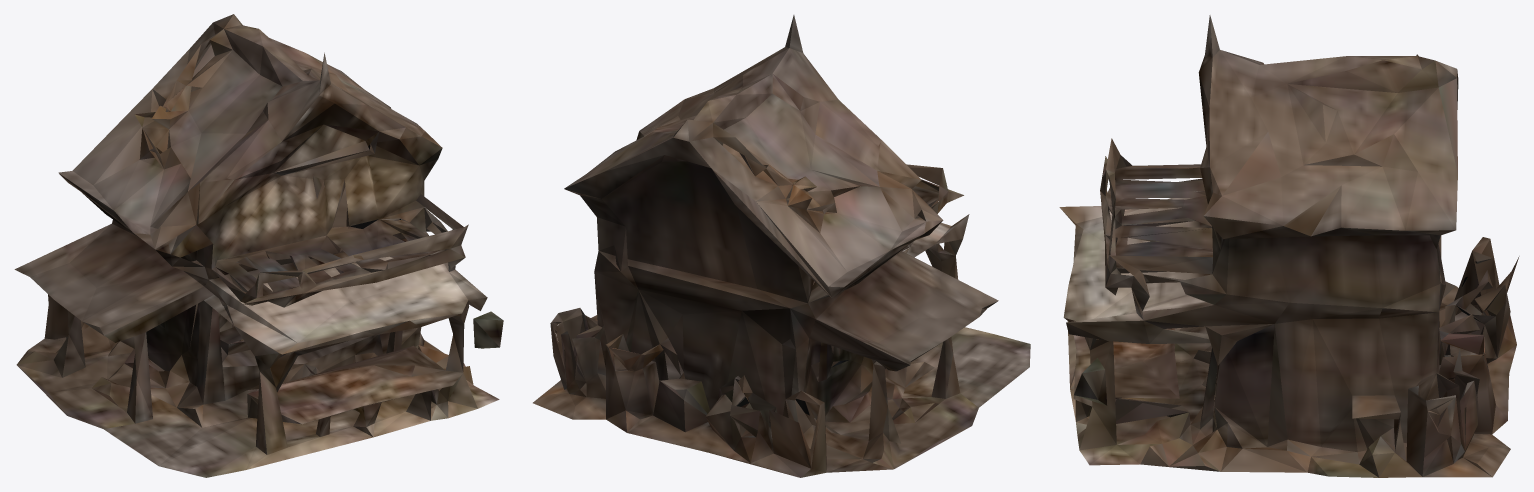
File: hut_mossy_ruined_b_lod1.glb
3 views of the same model, side by side, from view 1: azimuth 30°, elevation 25°; view 2: azimuth 150°, elevation 25°; view 3: azimuth 270°, elevation 25° (orthographic). The views are drawn at different scales.
Visible parts, largest first — view 1: hut_mossy_ruined_b_lod1; view 2: hut_mossy_ruined_b_lod1; view 3: hut_mossy_ruined_b_lod1.
Boxes of the visible parts, x1,y1,x2,y2 form: hut_mossy_ruined_b_lod1: (14, 14, 503, 477); hut_mossy_ruined_b_lod1: (533, 15, 1030, 477); hut_mossy_ruined_b_lod1: (1059, 15, 1519, 477).
Size of the model in its own units: 6.89 by 6.13 by 6.61.
1 material, 1 textured.
